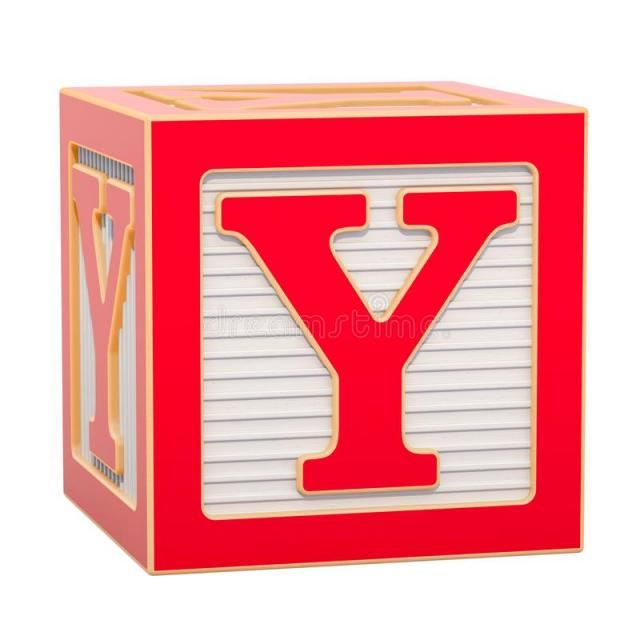Y: (212, 178, 529, 501)
